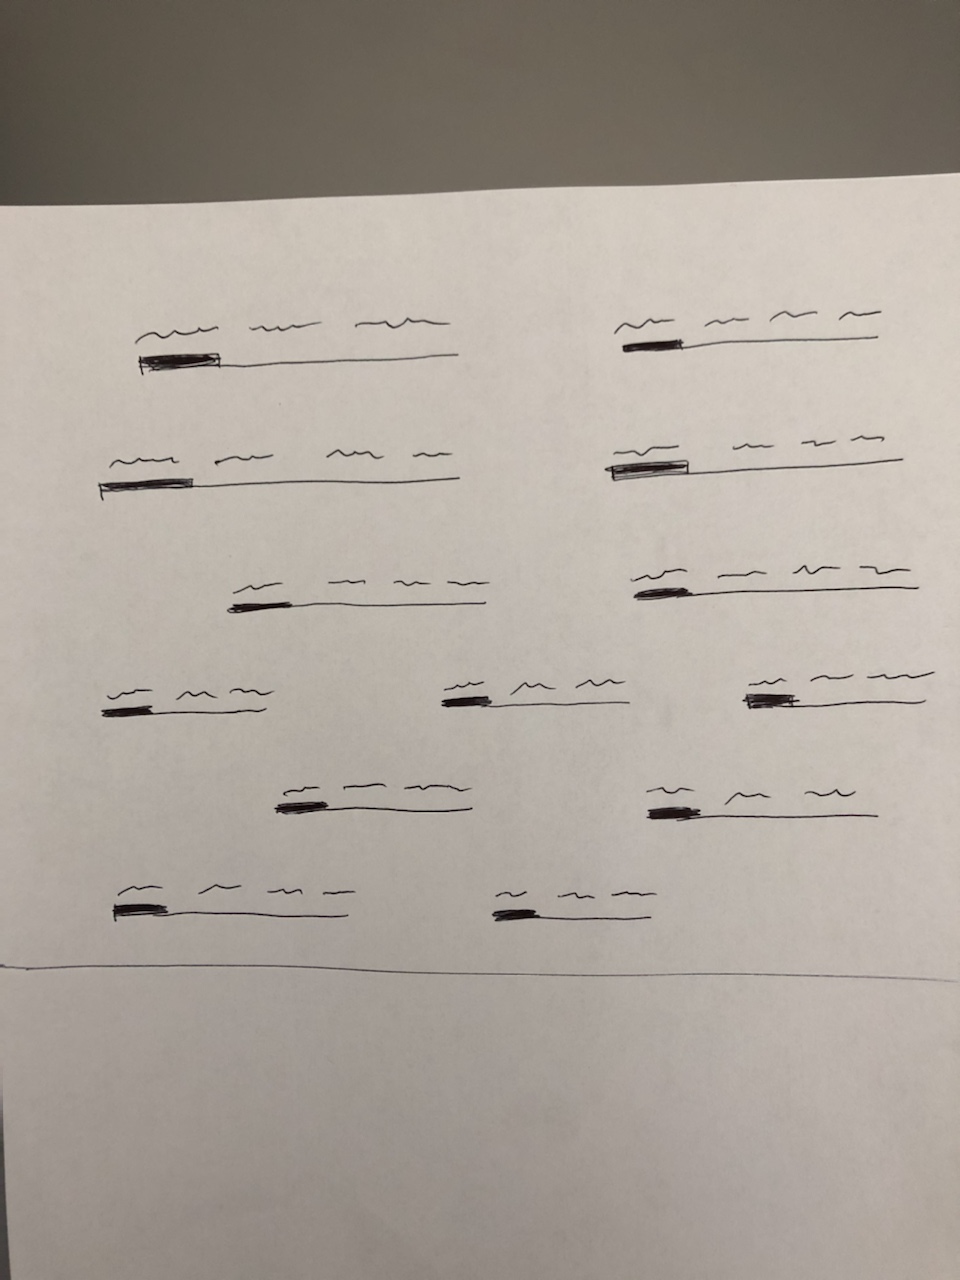switch: (107, 874, 363, 930), (641, 778, 896, 834), (272, 775, 486, 830), (438, 671, 641, 724), (485, 878, 669, 933), (739, 668, 942, 715), (96, 676, 277, 723)
tabs: (94, 441, 476, 502), (122, 313, 466, 374), (603, 421, 914, 478), (612, 305, 894, 358), (228, 569, 490, 617), (619, 557, 924, 598)
